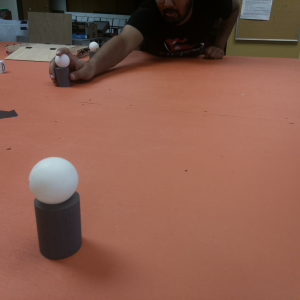obstacle: (32, 153, 80, 248), (55, 55, 71, 86)
slope: (9, 46, 60, 64)
start: (1, 105, 22, 124)
